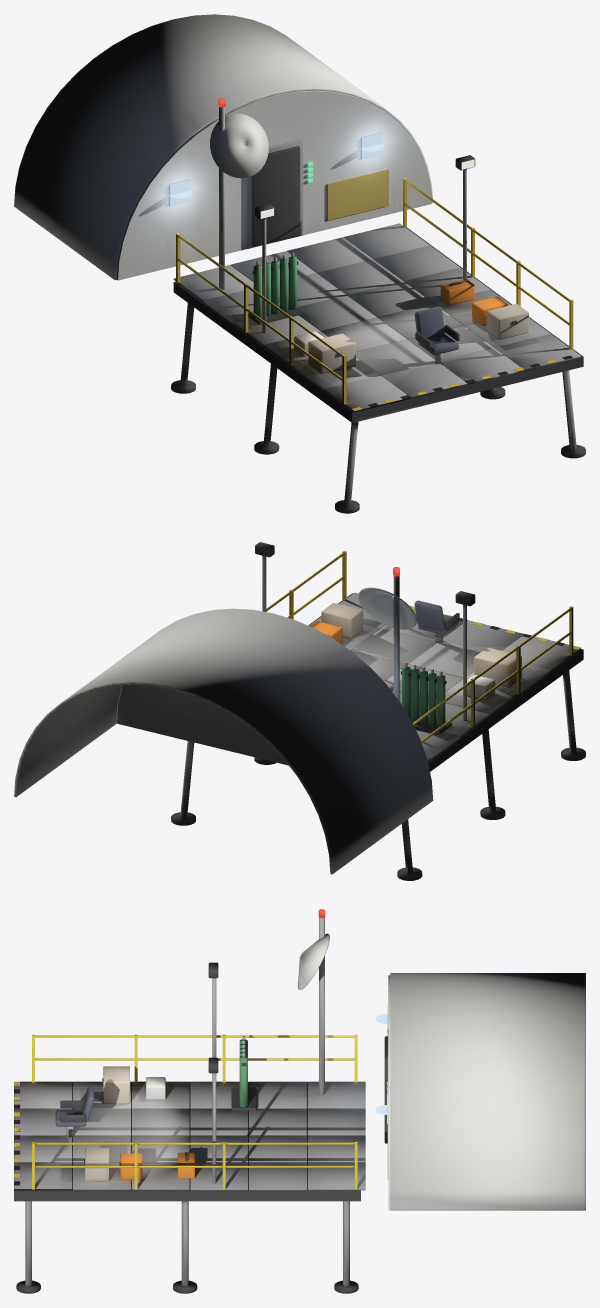
The model's file is moonbase.glb.
3 renders of one model, top to bottom at view 1: azimuth 30°, elevation 25°; view 2: azimuth 150°, elevation 25°; view 3: azimuth 270°, elevation 25°, orthographic. The views are drawn at different scales.
Parts seen in each view (by area): view 1: things, deck, lights; view 2: things, deck; view 3: things, deck.
Boxes of the visible parts, x1=… form: things: x1=14, y1=14, x2=573, y2=404; deck: x1=171, y1=223, x2=585, y2=513; lights: x1=168, y1=98, x2=474, y2=218; things: x1=14, y1=542, x2=573, y2=874; deck: x1=171, y1=592, x2=585, y2=880; things: x1=32, y1=917, x2=585, y2=1210; deck: x1=14, y1=1081, x2=365, y2=1293.
Bounding box in the file's own units: 7.3 × 6.39 × 11.7.
Materials: 6 (2 with a texture image).
